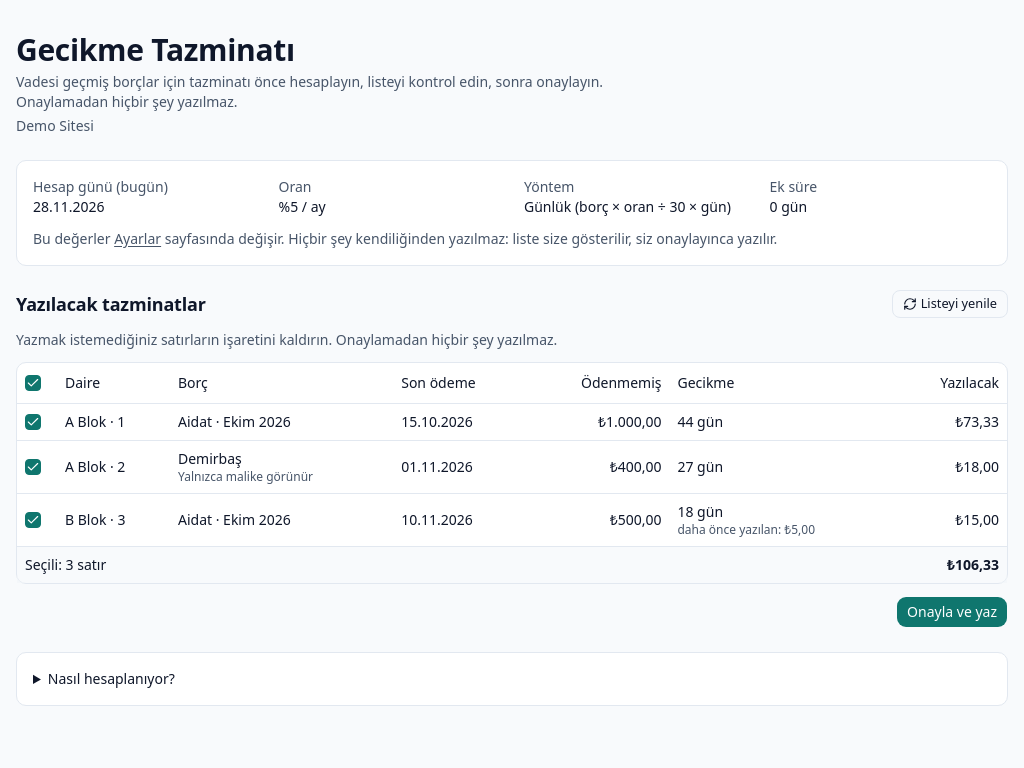
Test case: Gecikme Tazminatı: the list › lowers the total when a line is unticked, and the select-all box shows "some"
Expected: the text "A Blok · 1" is shown, [57,403,170,440]
Click the checkbox named "A Blok · 1 Aidat · Ekim 2026 için tazminat yaz".
click(33, 422)  # box [25,414,41,430]
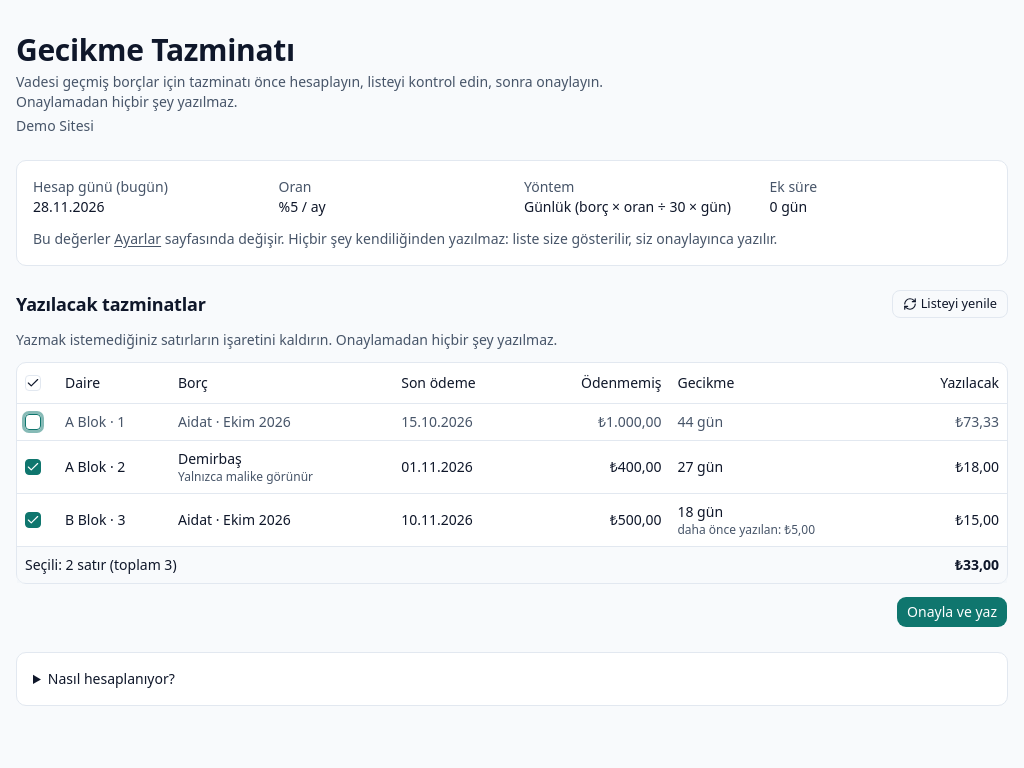
Result: the text "Seçili: 2 satır (toplam 3)" is shown at [17,546,896,582]
Result: the text "₺33,00" is shown at [896,546,1007,582]
